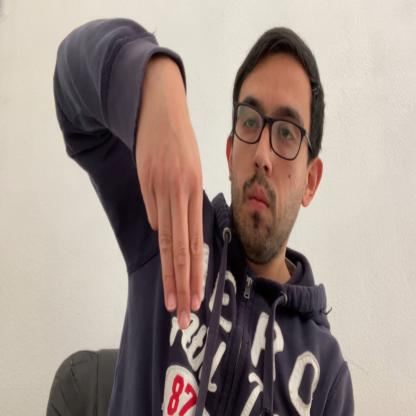M: (137, 61, 204, 328)
